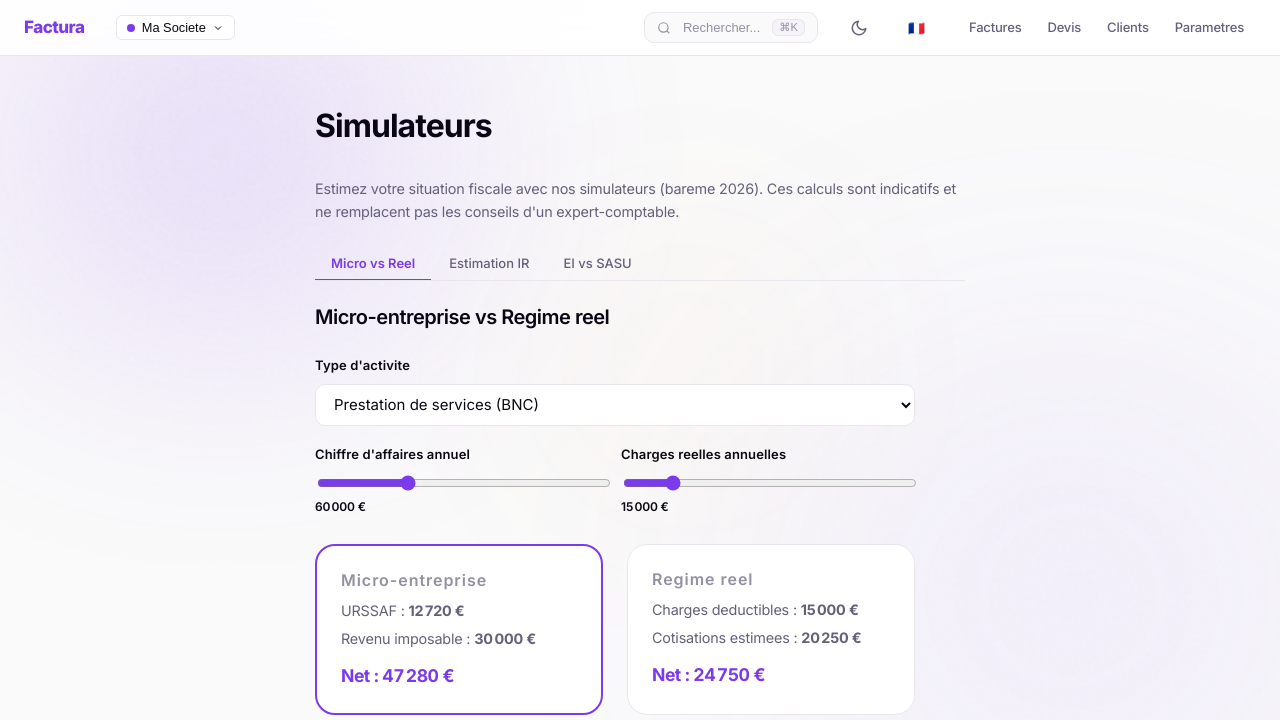
Test: Simulateurs › simule l'estimation IR
This screenshot has width=1280, height=720.
What coordinates should you click on to do the following:
click the button "Estimation IR"
I would click on:
 (489, 264)
Its box is [433,247,545,281].
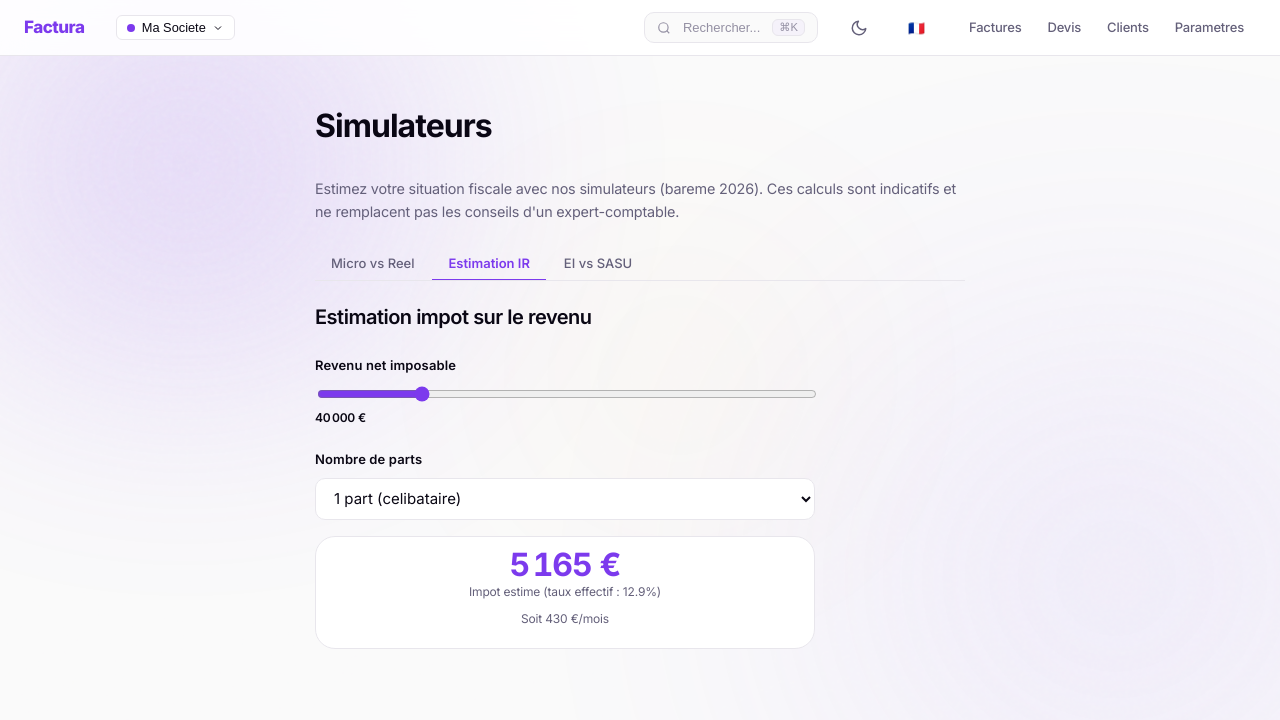
Check: the heading "Estimation impot sur le revenu" is shown, box [315,305,592,329]
Check: the text "Revenu net imposable" is shown, box [315,357,456,373]
Check: the text "Nombre de parts" is shown, box [315,451,422,467]
